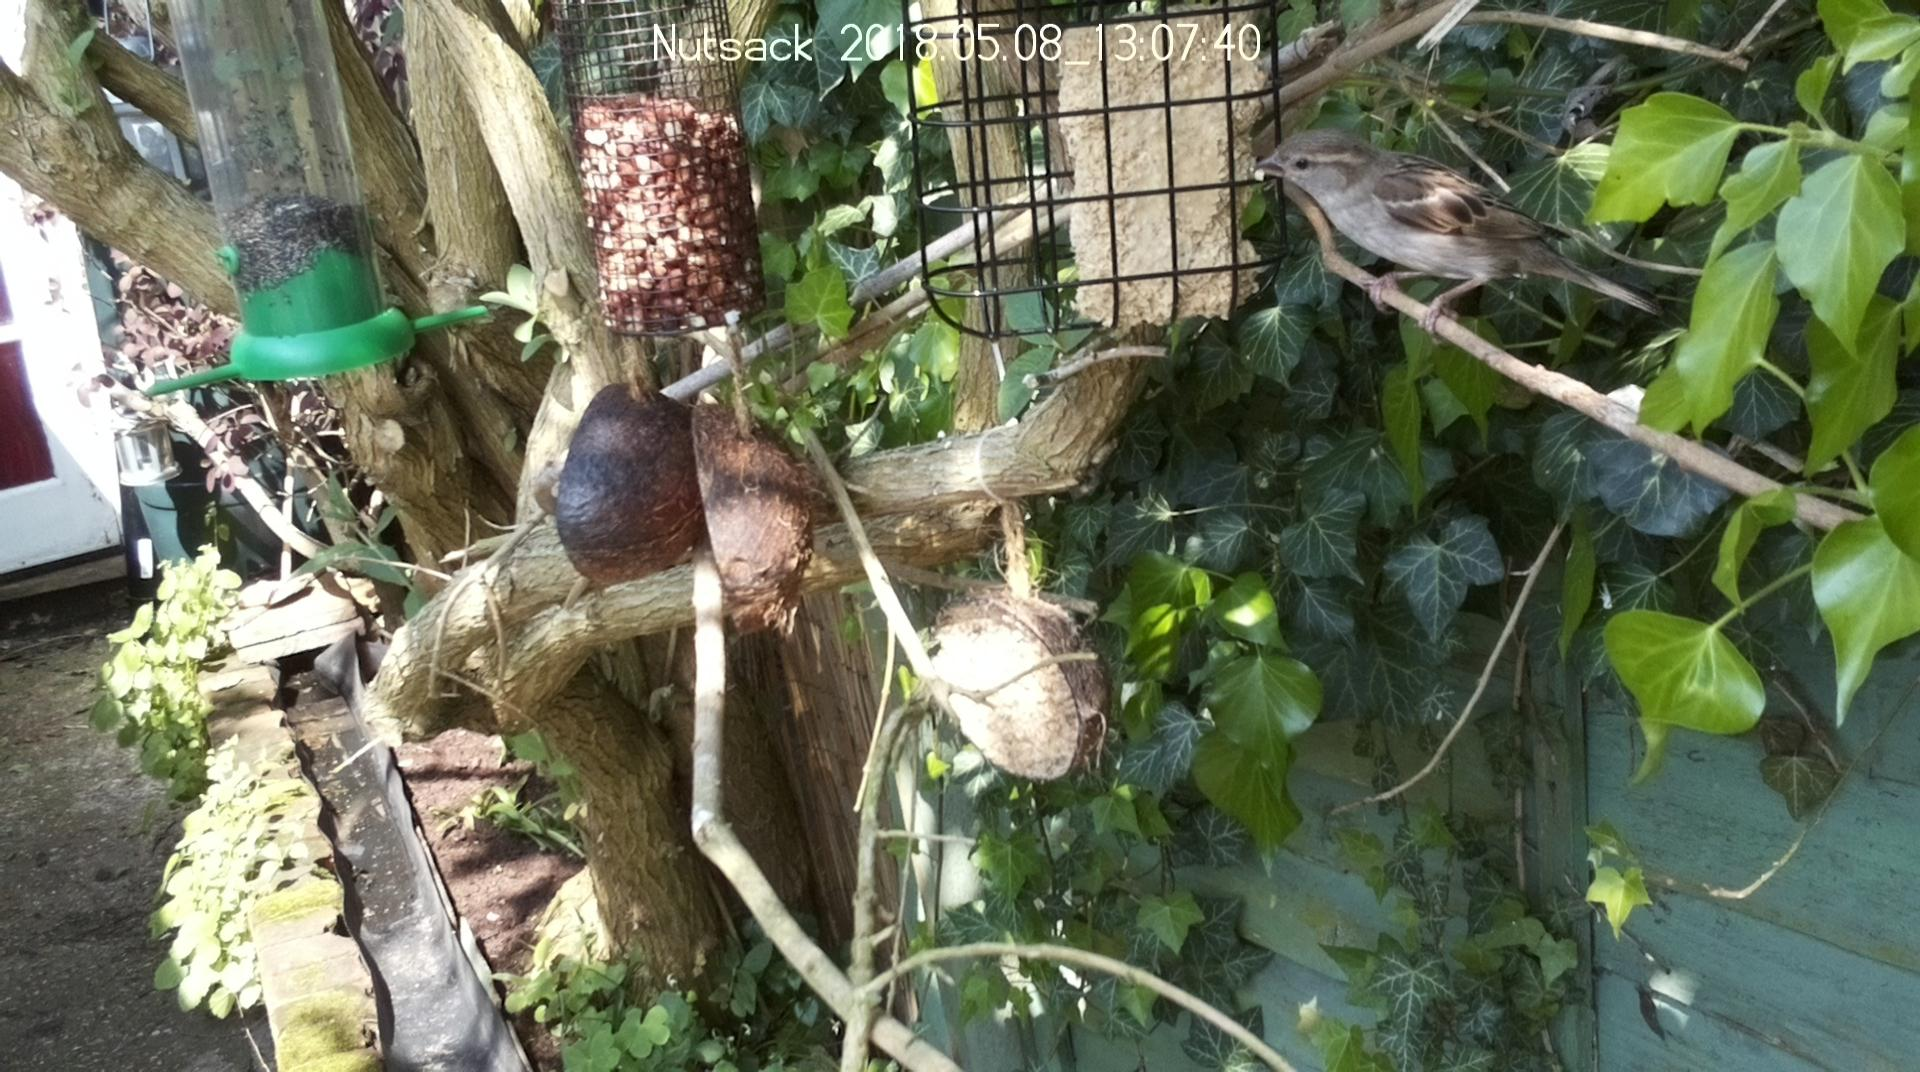sparrow: (1247, 125, 1665, 351)
